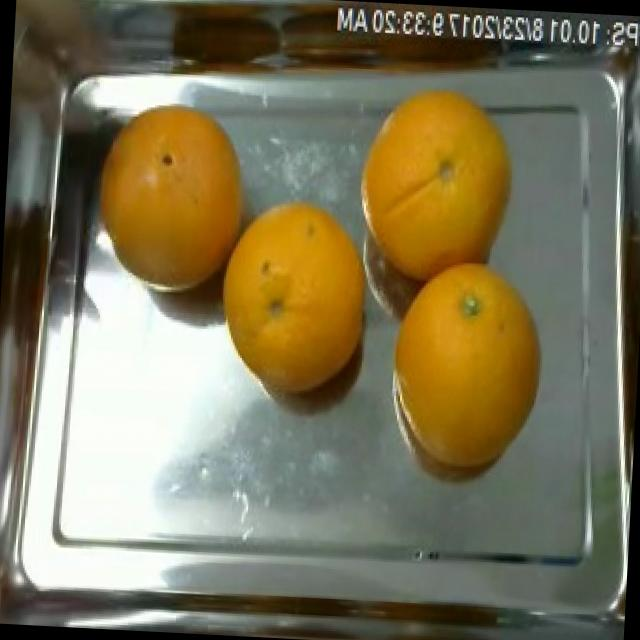Fruit: (332, 63, 542, 299), (84, 82, 276, 315)
